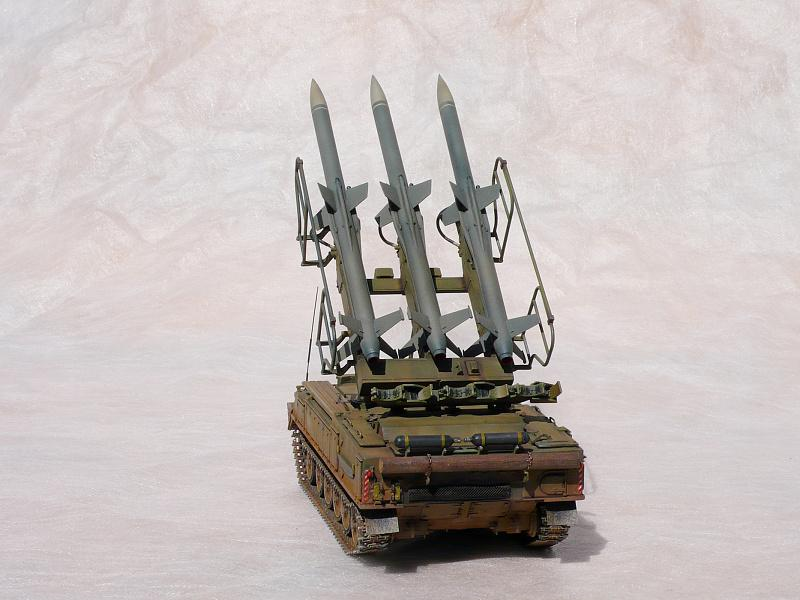armored_car: (282, 63, 574, 560)
